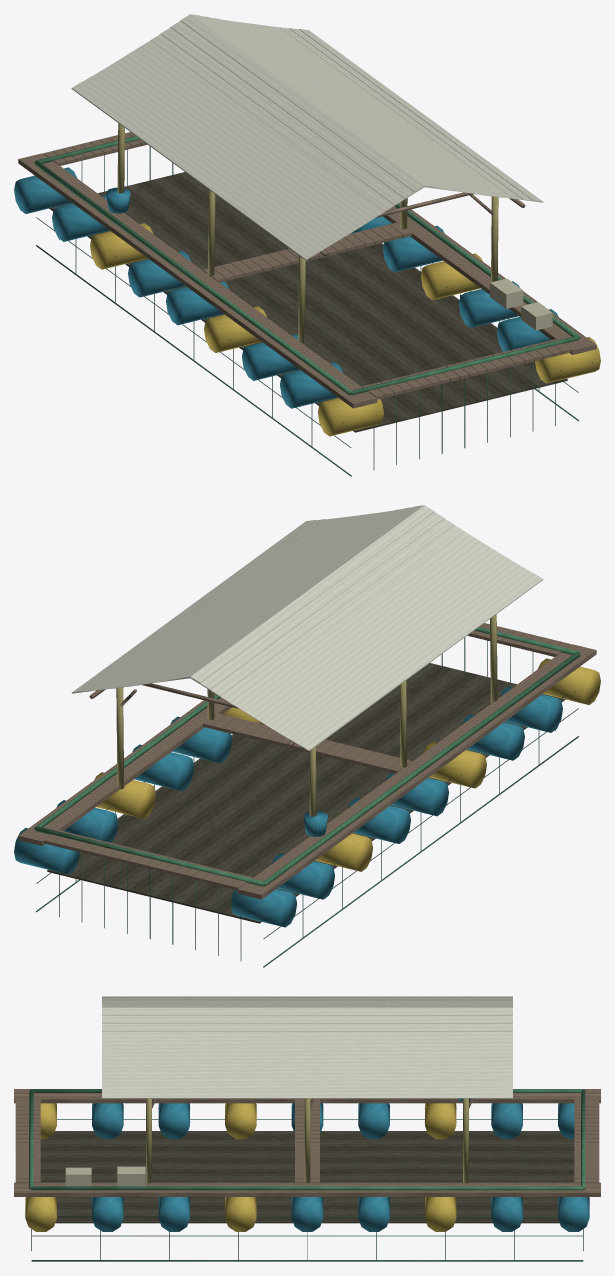
The model's file is bung-raft-3-white.glb.
3 views of the same model, one above another, from view 1: azimuth 30°, elevation 25°; view 2: azimuth 150°, elevation 25°; view 3: azimuth 270°, elevation 25° (orthographic). The views are drawn at different scales.
Parts seen in each view (by area): view 1: bung-raft-3-white; view 2: bung-raft-3-white; view 3: bung-raft-3-white.
Part boxes in pixels (x1,y1,x2,y2): bung-raft-3-white: [14, 14, 600, 476]; bung-raft-3-white: [14, 505, 600, 967]; bung-raft-3-white: [14, 996, 600, 1261].
Bounding box in the file's own units: 4.94 × 4.17 × 10.8.
1 material, 1 textured.
